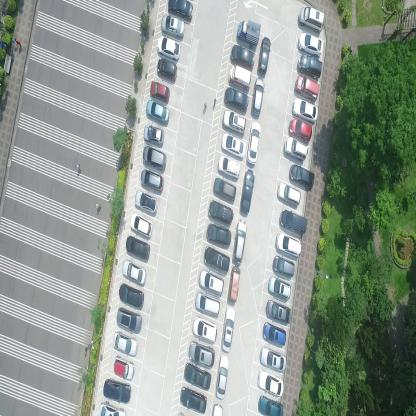car: (184, 361, 212, 391), (179, 384, 207, 414), (278, 208, 307, 236), (187, 340, 215, 368), (103, 377, 132, 404), (289, 162, 315, 192), (239, 167, 255, 215), (259, 345, 286, 373), (202, 245, 230, 272), (299, 4, 324, 34), (220, 306, 236, 352), (297, 30, 324, 57), (291, 97, 318, 124), (118, 283, 145, 310), (220, 132, 246, 160), (198, 268, 224, 296), (117, 305, 142, 334), (232, 219, 248, 264), (246, 119, 261, 166), (215, 353, 230, 400), (276, 232, 302, 259), (207, 199, 233, 226), (276, 180, 301, 208), (258, 369, 283, 397), (222, 108, 247, 136), (298, 51, 322, 80), (284, 134, 308, 163), (126, 234, 150, 263), (229, 44, 255, 70), (223, 86, 249, 112), (262, 321, 287, 348), (236, 19, 261, 46), (141, 144, 166, 171), (121, 259, 146, 286), (113, 331, 138, 358), (206, 221, 232, 246), (194, 291, 220, 316), (192, 316, 217, 342), (218, 153, 242, 180), (161, 12, 185, 39), (134, 190, 158, 217), (295, 74, 319, 100), (265, 300, 291, 324), (228, 64, 252, 90), (130, 213, 154, 239), (289, 116, 312, 143), (212, 177, 236, 202), (156, 35, 180, 60), (140, 168, 164, 193), (257, 35, 272, 75), (168, 0, 194, 23), (146, 98, 169, 124), (268, 275, 291, 300), (113, 355, 135, 381), (272, 254, 294, 279), (250, 77, 264, 115), (156, 58, 178, 82), (226, 266, 240, 303), (150, 80, 171, 104), (258, 396, 284, 415), (143, 124, 164, 146), (98, 400, 127, 415)
